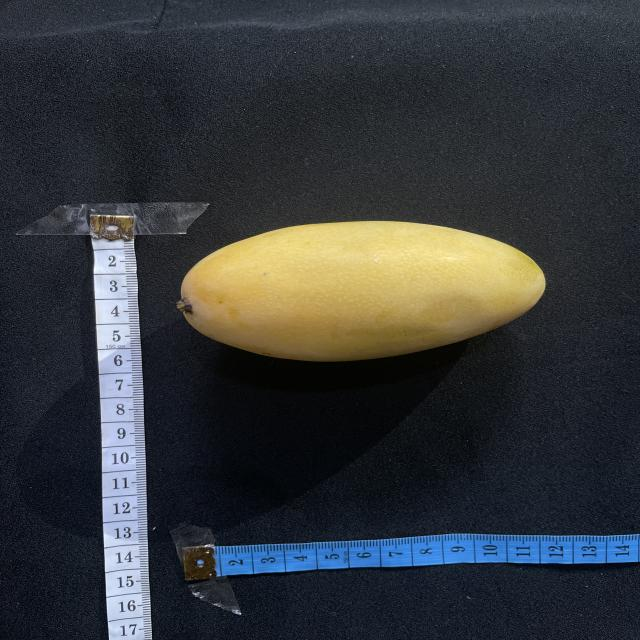Ripe: (178, 221, 545, 362)
